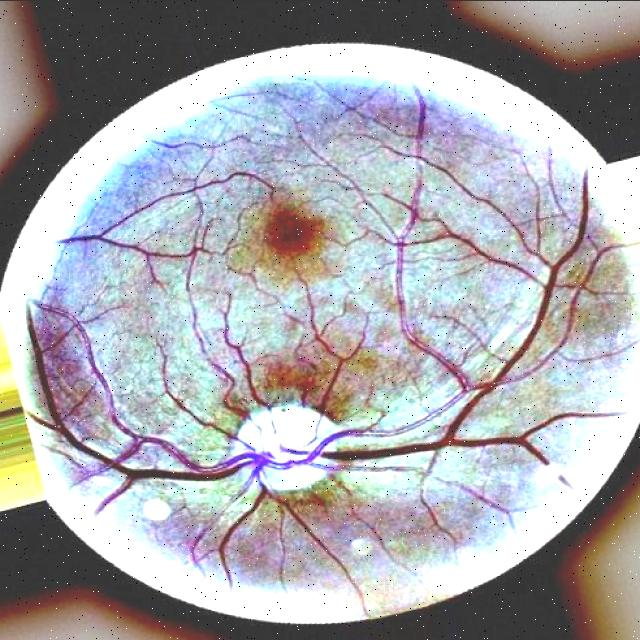Macula: (264, 208, 323, 258)
Nerves: (27, 170, 588, 604), (60, 230, 274, 424)
Optic Disk: (232, 403, 349, 489)
